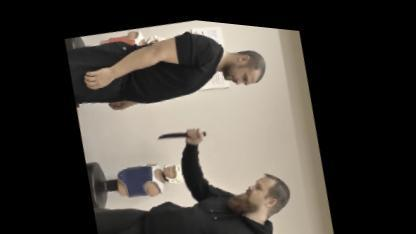knife: (156, 115, 212, 146)
